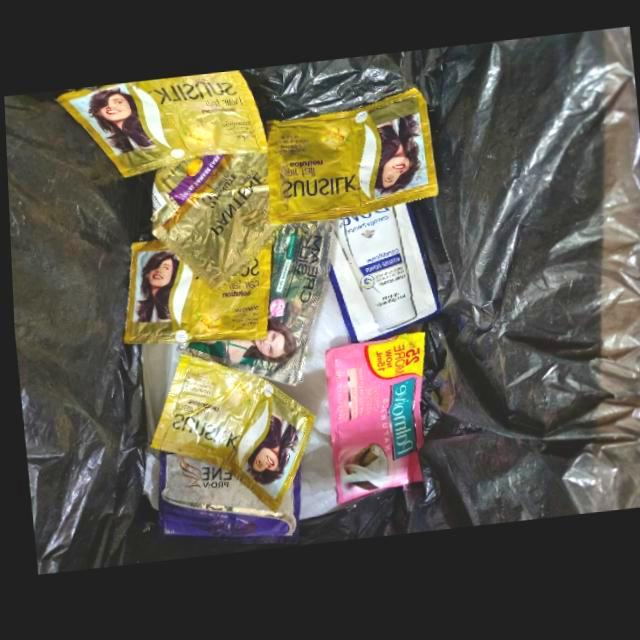plastic_sachet: (146, 356, 311, 516), (173, 225, 332, 390), (263, 93, 437, 228), (54, 73, 267, 179), (322, 337, 423, 510), (148, 155, 274, 290), (120, 241, 270, 346), (326, 207, 438, 347), (154, 456, 298, 540)
